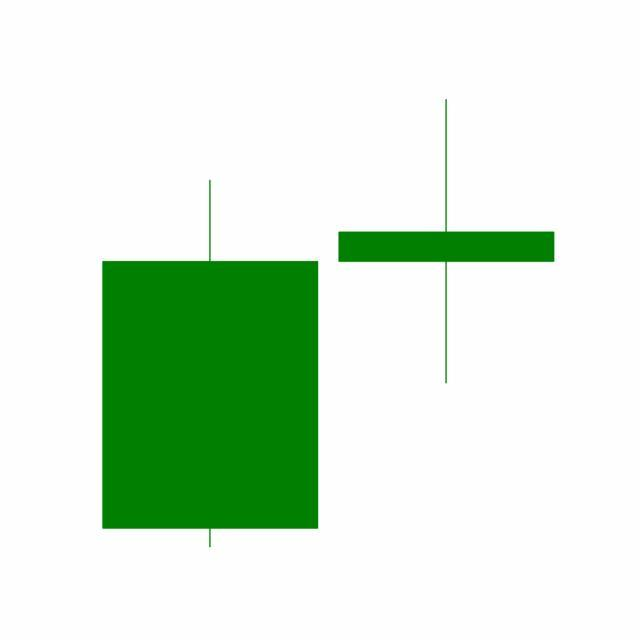Hanging Man: (328, 97, 566, 388)
